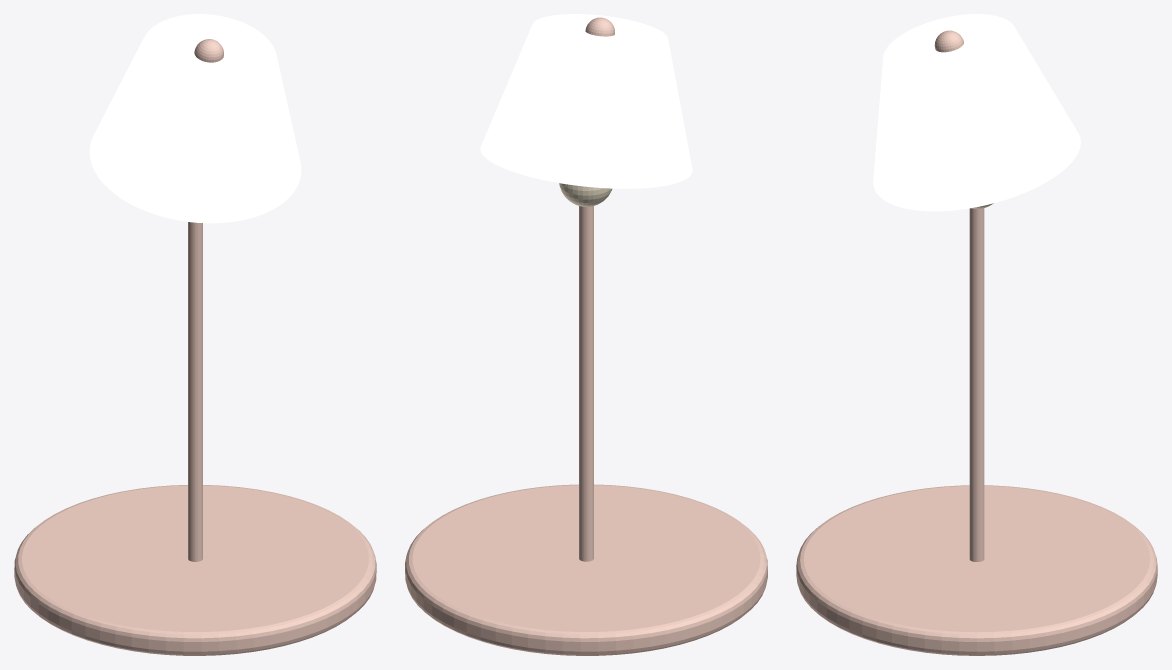
File: brass_lamp_rose.fbx
3 renders of one model, left to right at view 1: azimuth 30°, elevation 25°; view 2: azimuth 150°, elevation 25°; view 3: azimuth 270°, elevation 25°, orthographic.
Parts seen in each view (by area): view 1: V_Rose_Base, V_Rose_Shade, V_Rose_Stem, V_Rose_Finial; view 2: V_Rose_Base, V_Rose_Shade, V_Rose_Stem, V_Rose_Bulb; view 3: V_Rose_Base, V_Rose_Shade, V_Rose_Stem.
Part boxes in pixels (x1,y1,x2,y2): V_Rose_Base: [14, 485, 376, 655]; V_Rose_Shade: [89, 14, 301, 223]; V_Rose_Stem: [188, 222, 202, 561]; V_Rose_Finial: [194, 39, 223, 62]; V_Rose_Base: [405, 484, 767, 655]; V_Rose_Shade: [480, 14, 692, 188]; V_Rose_Stem: [579, 206, 593, 561]; V_Rose_Bulb: [559, 183, 612, 206]; V_Rose_Base: [796, 485, 1157, 655]; V_Rose_Shade: [873, 14, 1080, 211]; V_Rose_Stem: [969, 208, 984, 561].
Bounding box in the file's own units: 170 × 286 × 170.
